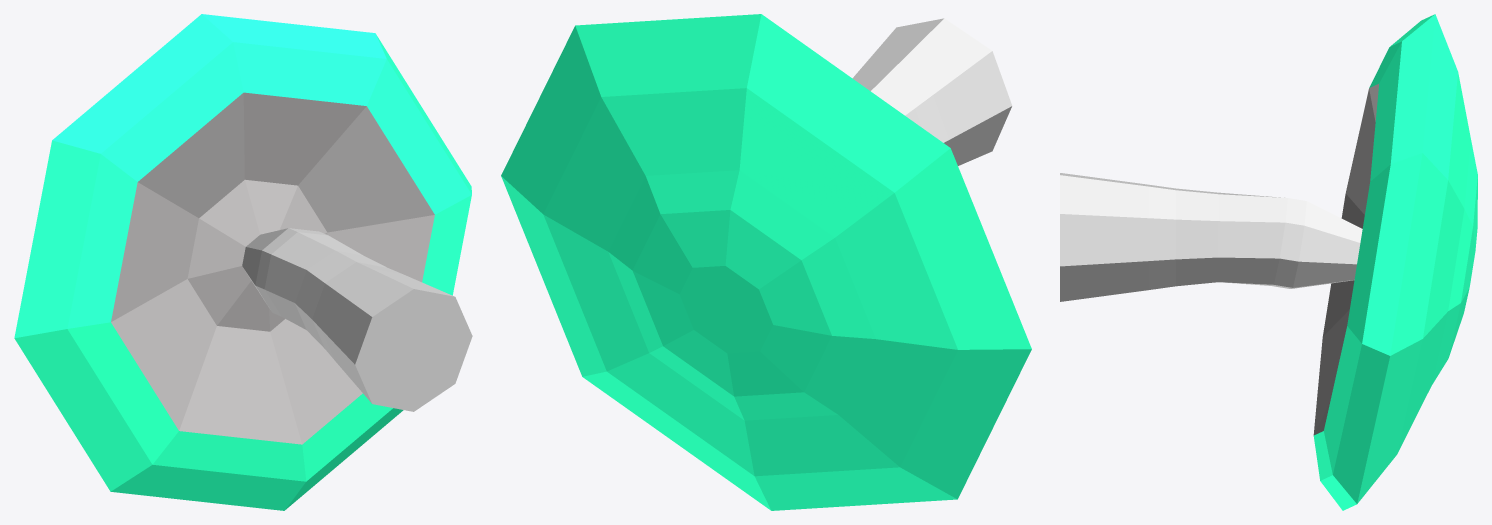
File: Mushroom_1.fbx
3 renders of one model, left to right at view 1: azimuth 30°, elevation 25°; view 2: azimuth 150°, elevation 25°; view 3: azimuth 270°, elevation 25°, orthographic. The views are drawn at different scales.
Visible parts, largest first — view 1: Mushroom_1; view 2: Mushroom_1; view 3: Mushroom_1.
Part boxes in pixels (x1,y1,x2,y2): Mushroom_1: (14,14,472,510); Mushroom_1: (501,14,1031,510); Mushroom_1: (1060,14,1477,510).
Size of the model in its own units: 54.41 by 53.59 by 42.4.
